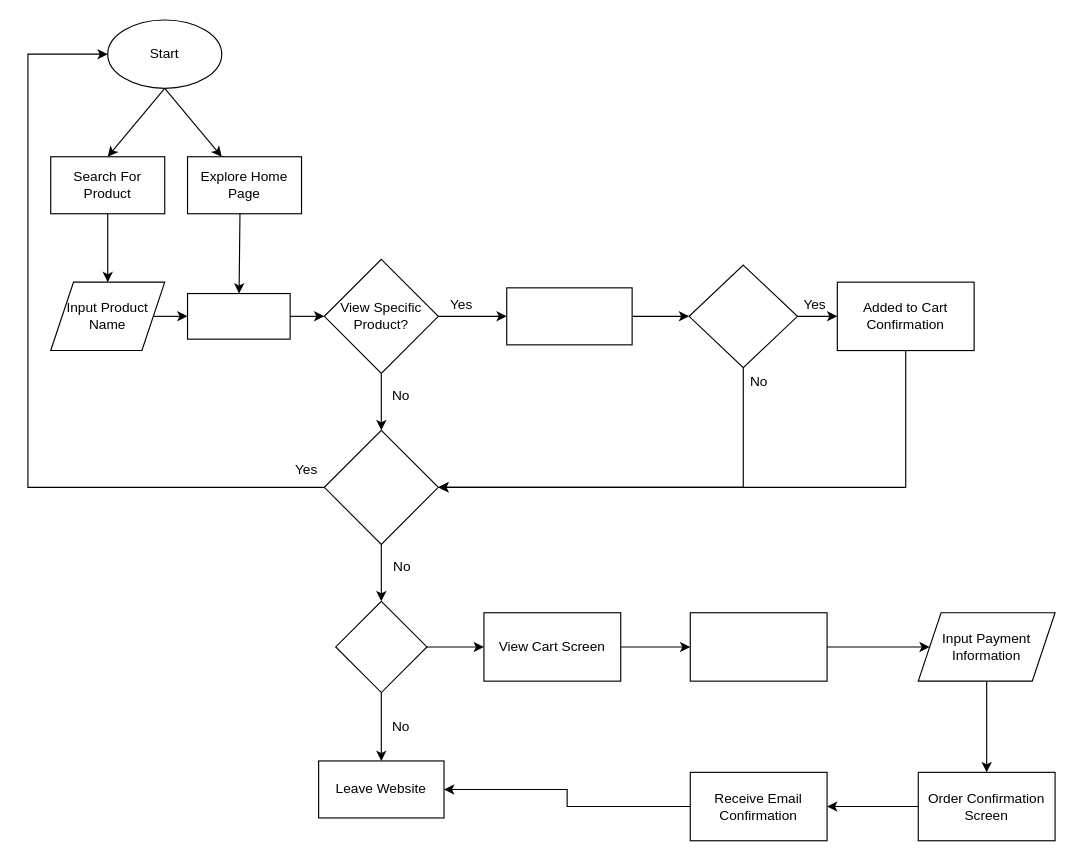
This 1075x861 diagram has some shape labels left out. Each missing label, with the centre of its shape:
Add To Cart?: the point at 742,316
Checkout?: the point at 381,646
Continue Shopping?: the point at 380,486
View Payment Screen: the point at 758,646
View Product List: the point at 238,315
View Product Webpage: the point at 569,316
